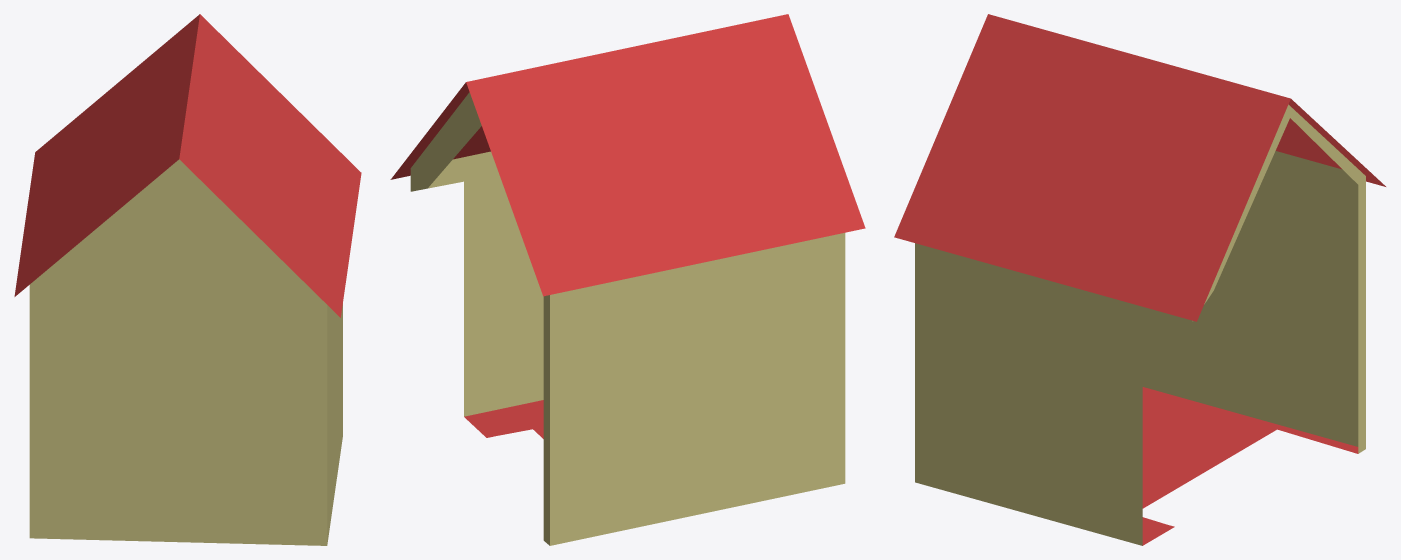
3 views of the same model, side by side, from view 1: azimuth 30°, elevation 25°; view 2: azimuth 150°, elevation 25°; view 3: azimuth 270°, elevation 25° (orthographic). The views are drawn at different scales.
Size of the model in its own units: 16.05 by 16.22 by 14.9.
